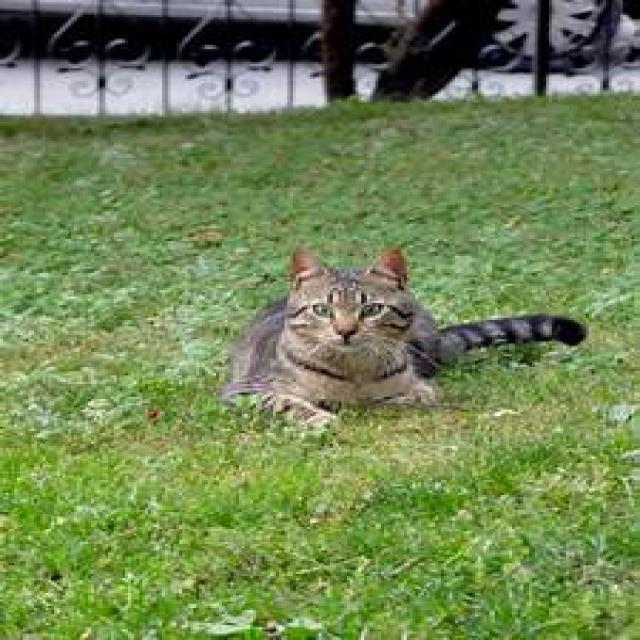animal: (219, 243, 586, 431)
